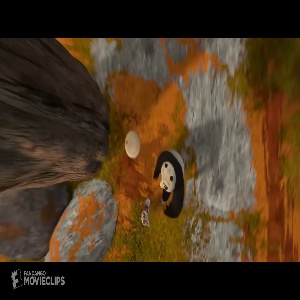po: (152, 146, 189, 220)
shifu: (138, 198, 153, 227)
